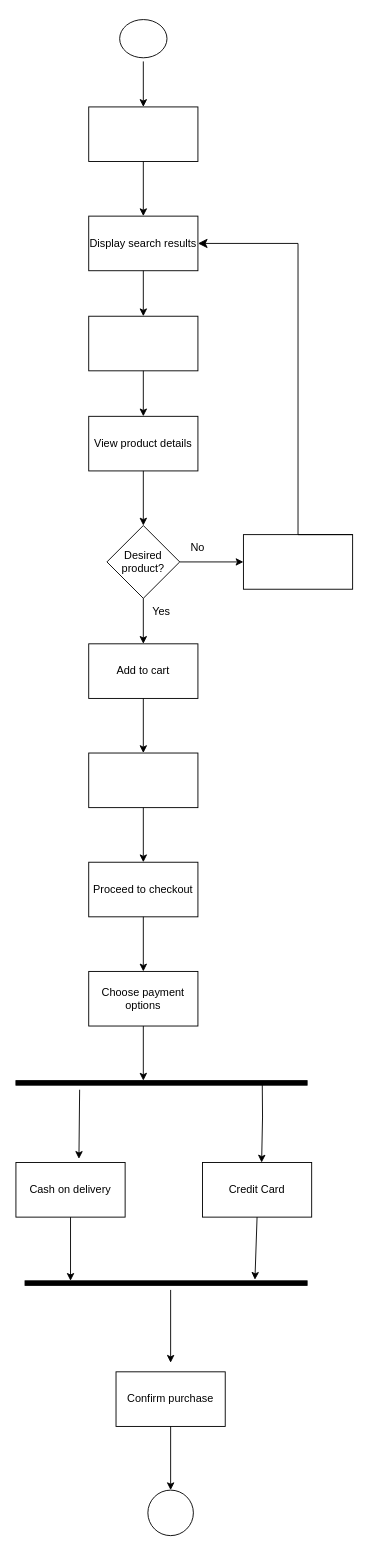
This 378x1552 diagram has some shape labels left out. The centre of each missing label's shape, as x and y in pixels:
"Return back" goes at point 298,561.
"Search for a product" goes at point 143,134.
"Select a product to view" goes at point 143,343.
"View the cart" goes at point 143,780.
